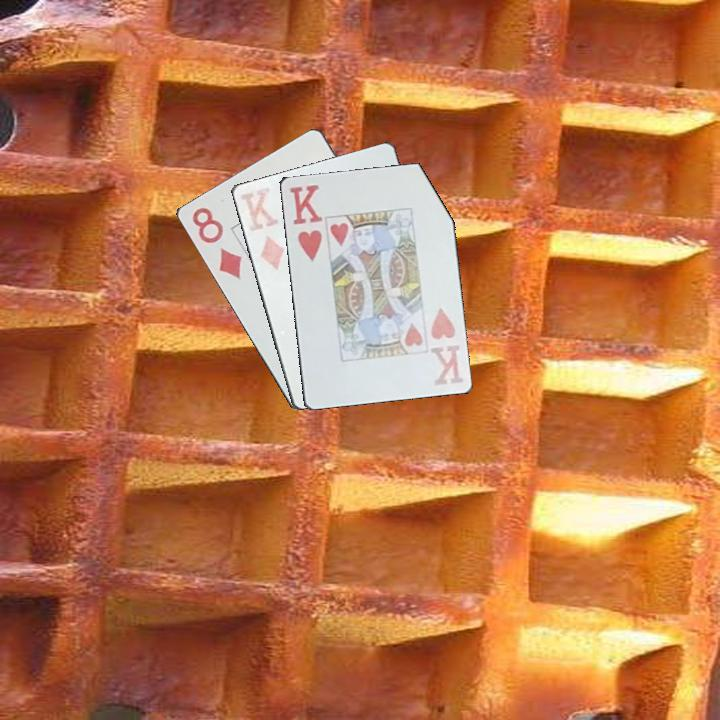8d: (188, 202, 244, 282)
Kd: (236, 183, 287, 272)
Kh: (426, 304, 466, 388), (286, 181, 325, 265)
